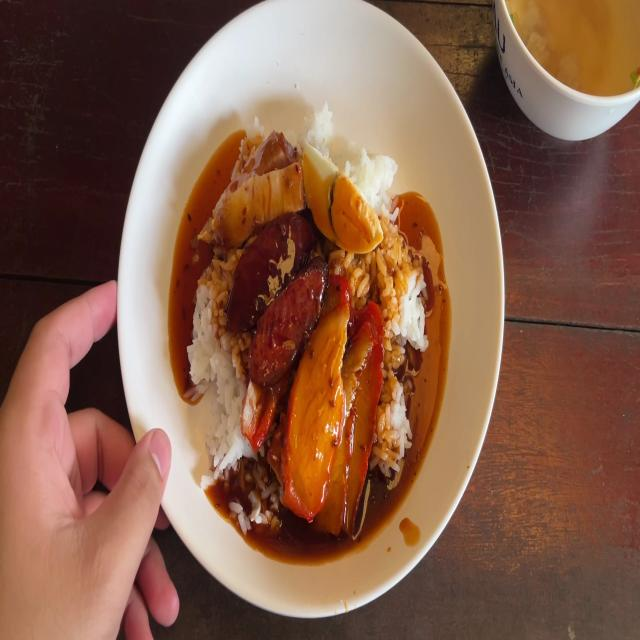red_pork_and_crispy_pork: (305, 137, 388, 253)
stir_fried_basil: (232, 214, 325, 370), (218, 210, 304, 318), (254, 266, 326, 366)
